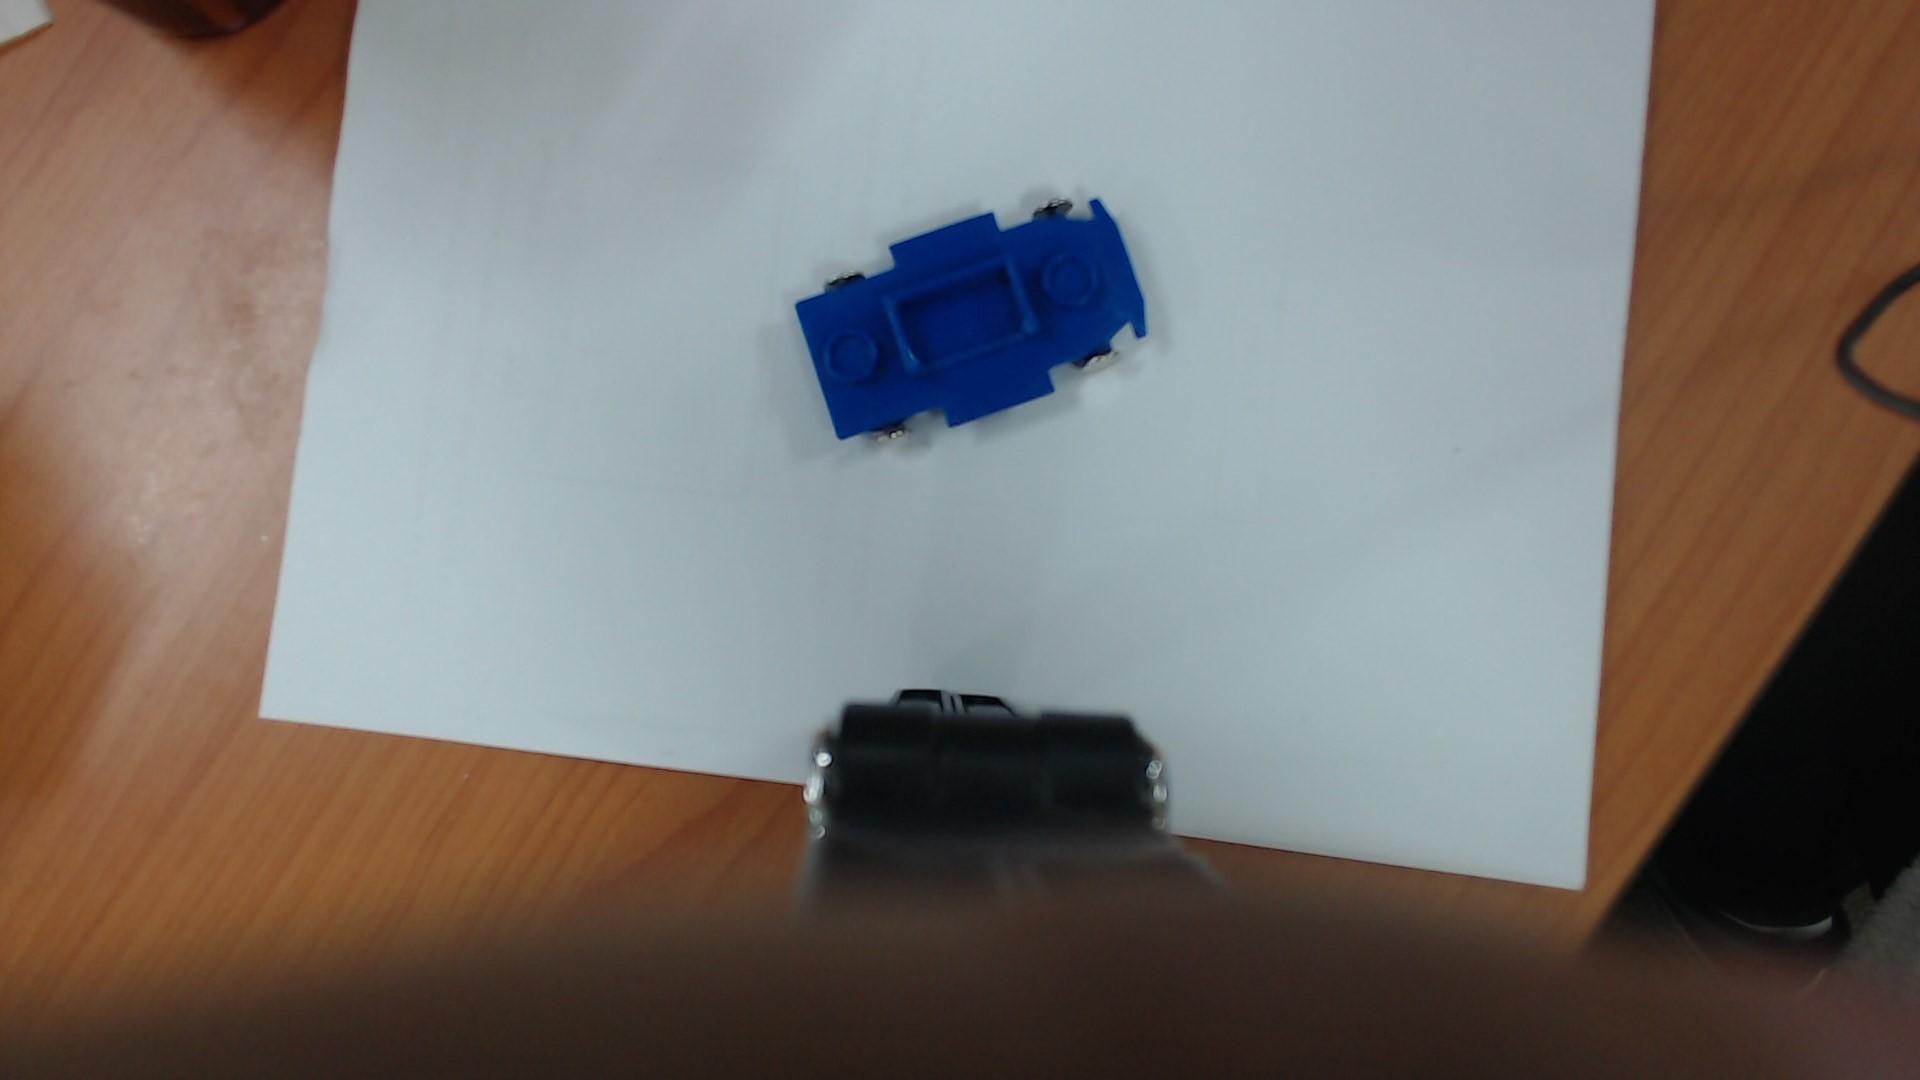lower_ng: (874, 241, 1056, 390)
